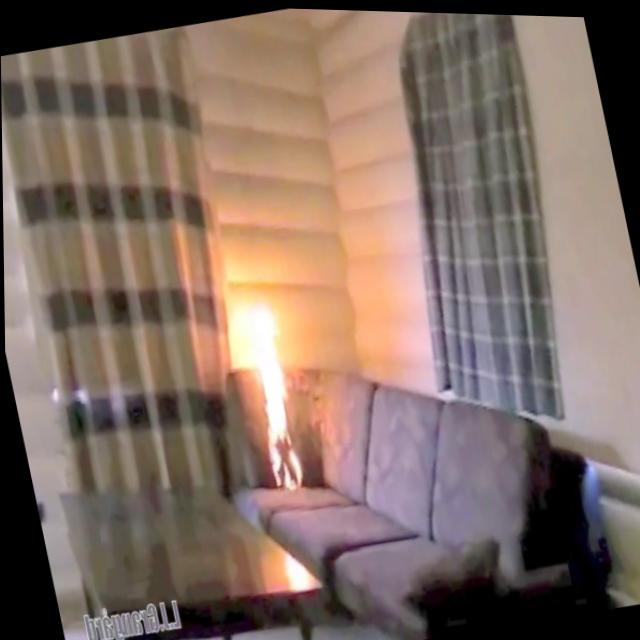fire: (228, 294, 313, 495)
